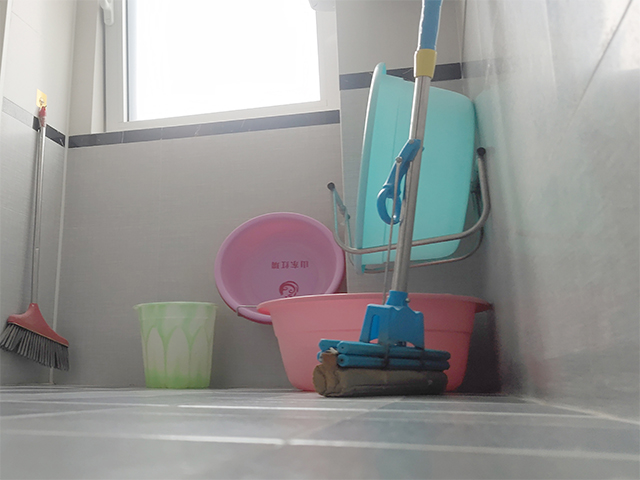trashcan: (133, 298, 214, 391)
